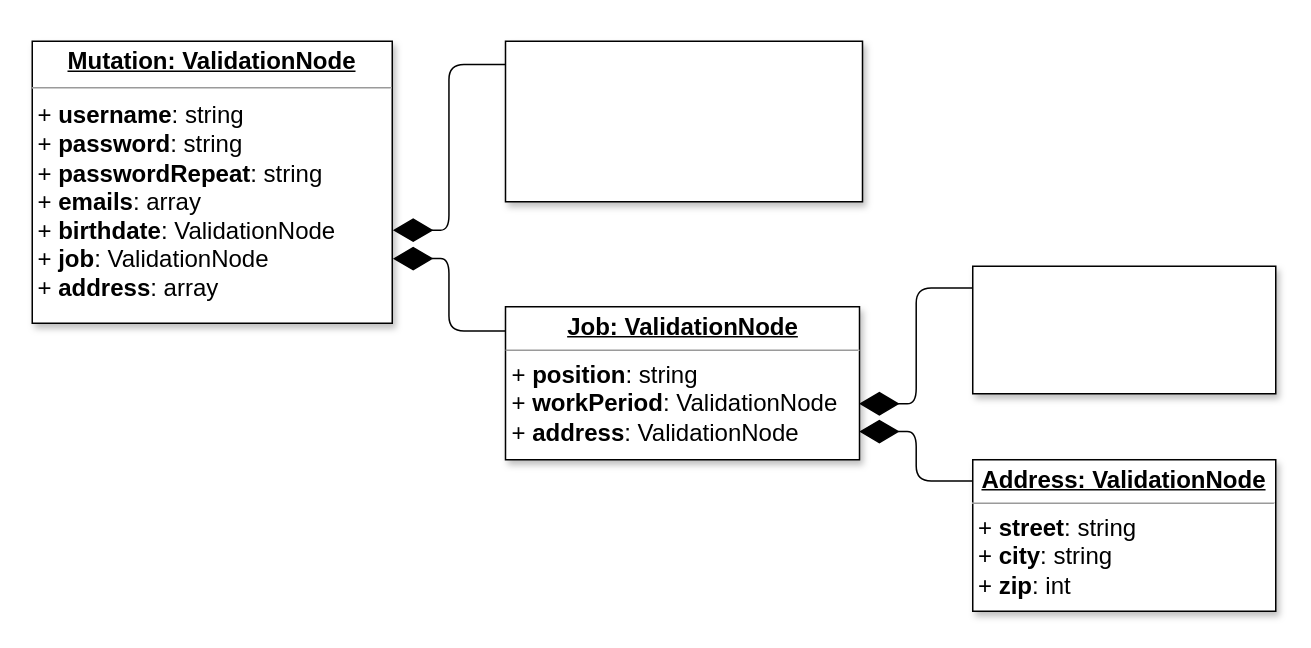
Some shapes in this 1311 by 648 pixel diagram are drawn without their labels. Here are the shapes that lost their labels. From the top down, the centre of each, then its label:
At [685,123]: "Birthdate: ValidationNode + day : int + month : int + year : int".
At [1125,331]: "Period: ValidationNode + startDate : string + endDate : string".
